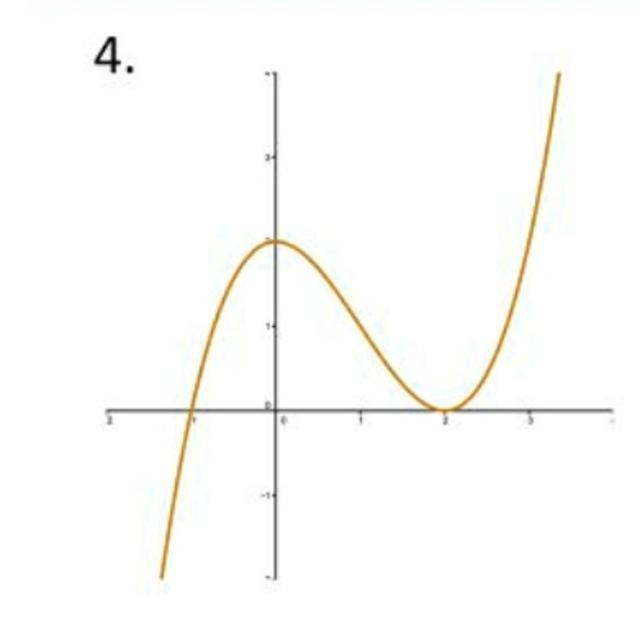axis: (263, 65, 282, 584), (99, 404, 620, 416)
line: (154, 68, 568, 579)
